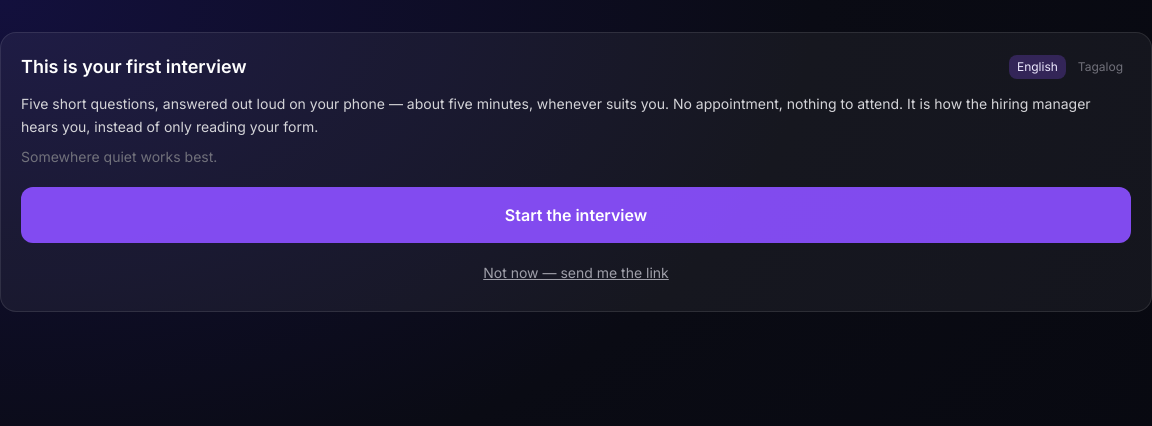
Scenario: voice screening on a phone › records 'not now', because the next screen promises to send the link
Expected: the heading "This is your first interview" is shown, 21,53 -> 247,81
Click the button "Not now — send me the link" at (576, 272), box 21,254 -> 1131,290
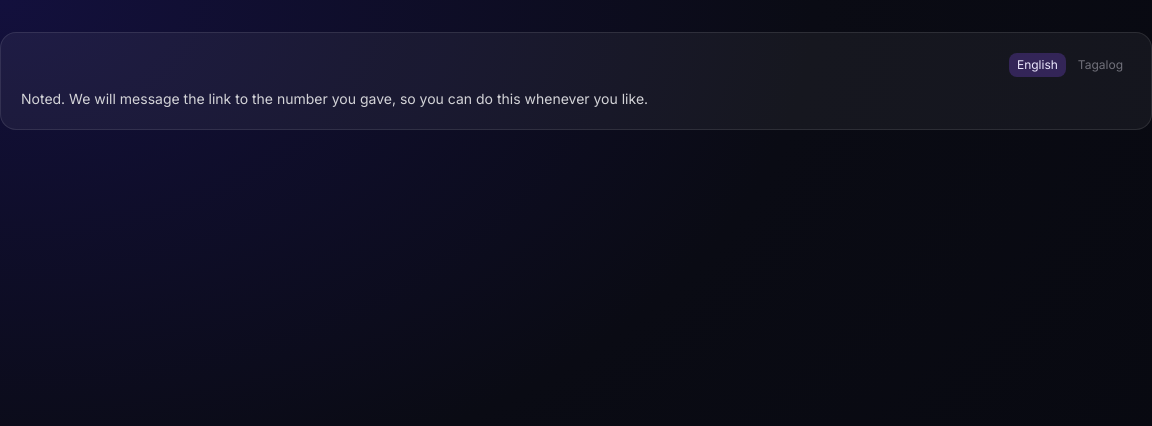
Result: the text "We will message the link" is shown at 21,90 -> 648,107
